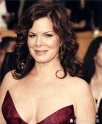female: (17, 5, 75, 76)
